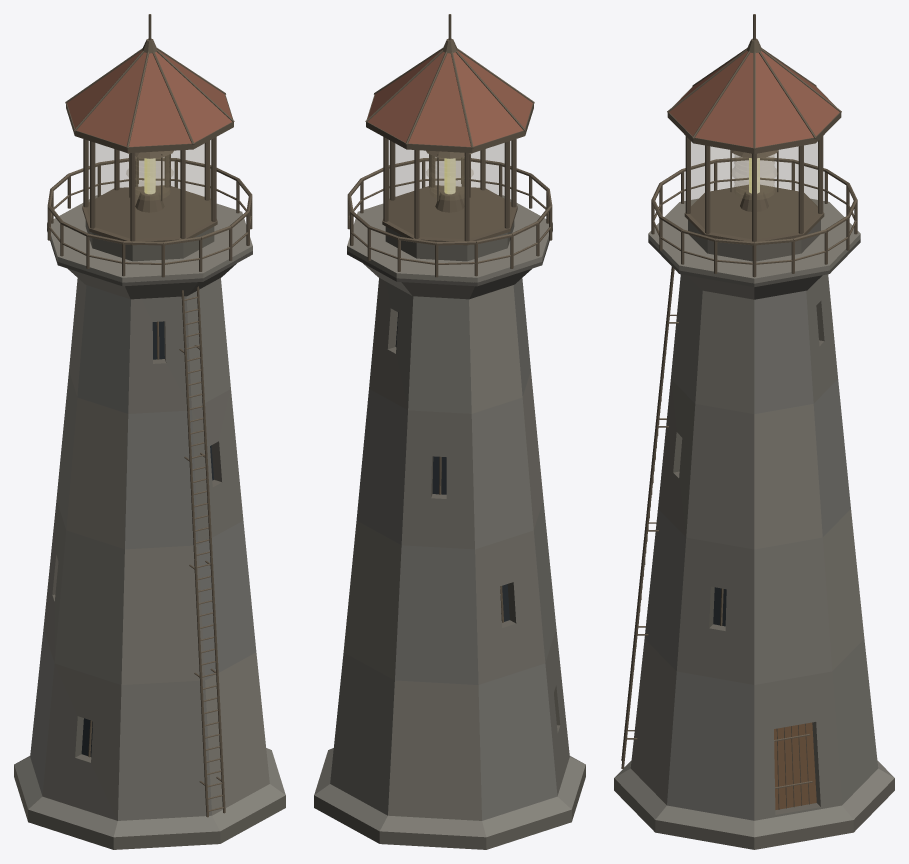
File: lighthouse.glb
3 renders of one model, left to right at view 1: azimuth 30°, elevation 25°; view 2: azimuth 150°, elevation 25°; view 3: azimuth 270°, elevation 25°, orthographic.
Parts seen in each view (by area): view 1: Shaft course 0 facet 5, Shaft course 1 facet 5, Eight pitched roof planes, Stone opening course 0 facet 4, Shaft course 2 facet 5, Shaft course 1 facet 4, Shaft course 2 facet 4, Shaft course 0 facet 6, Shaft course 1 facet 6, Stone opening course 3 facet 5, Gallery stone floor, Bevelled plinth (+21 smaller); view 2: Shaft course 0 facet 2, Shaft course 1 facet 2, Eight pitched roof planes, Shaft course 0 facet 3, Stone opening course 2 facet 2, Stone opening course 1 facet 3, Shaft course 0 facet 1, Shaft course 2 facet 3, Shaft course 3 facet 2, Shaft course 1 facet 1, Gallery stone floor, Shaft course 2 facet 1 (+19 smaller); view 3: Shaft course 0 facet 7, Shaft course 1 facet 0, Eight pitched roof planes, Stone opening course 1 facet 7, Shaft course 2 facet 0, Shaft course 2 facet 7, Stone opening course 0 facet 0, Shaft course 3 facet 0, Shaft course 3 facet 7, Gallery stone floor, Bevelled plinth, Shaft course 0 facet 1 (+21 smaller).
Boxes of the visible parts, left/top/right/bottom form: Shaft course 0 facet 5: left=118, top=680, right=211, bottom=820; Shaft course 1 facet 5: left=121, top=545, right=204, bottom=684; Eight pitched roof planes: left=67, top=50, right=232, bottom=146; Stone opening course 0 facet 4: left=42, top=663, right=121, bottom=820; Shaft course 2 facet 5: left=125, top=410, right=198, bottom=549; Shaft course 1 facet 4: left=54, top=530, right=124, bottom=684; Shaft course 2 facet 4: left=66, top=397, right=128, bottom=549; Shaft course 0 facet 6: left=205, top=652, right=269, bottom=815; Shaft course 1 facet 6: left=198, top=521, right=256, bottom=680; Stone opening course 3 facet 5: left=128, top=296, right=191, bottom=413; Gallery stone floor: left=47, top=195, right=252, bottom=282; Bevelled plinth: left=14, top=748, right=285, bottom=837; Shaft course 0 facet 2: left=388, top=680, right=481, bottom=820; Shaft course 1 facet 2: left=395, top=545, right=478, bottom=684; Eight pitched roof planes: left=367, top=50, right=532, bottom=146; Shaft course 0 facet 3: left=478, top=663, right=557, bottom=820; Stone opening course 2 facet 2: left=401, top=410, right=474, bottom=549; Stone opening course 1 facet 3: left=475, top=530, right=545, bottom=684; Shaft course 0 facet 1: left=330, top=652, right=394, bottom=815; Shaft course 2 facet 3: left=471, top=397, right=533, bottom=549; Shaft course 3 facet 2: left=408, top=296, right=471, bottom=413; Shaft course 1 facet 1: left=343, top=521, right=401, bottom=680; Gallery stone floor: left=347, top=195, right=552, bottom=282; Shaft course 2 facet 1: left=356, top=389, right=407, bottom=544; Shaft course 0 facet 7: left=667, top=671, right=754, bottom=820; Shaft course 1 facet 0: left=754, top=537, right=831, bottom=684; Eight pitched roof planes: left=669, top=51, right=839, bottom=147; Stone opening course 1 facet 7: left=677, top=537, right=754, bottom=684; Shaft course 2 facet 0: left=754, top=404, right=822, bottom=549; Shaft course 2 facet 7: left=686, top=404, right=754, bottom=549; Stone opening course 0 facet 0: left=754, top=671, right=841, bottom=820; Shaft course 3 facet 0: left=754, top=290, right=813, bottom=413; Shaft course 3 facet 7: left=695, top=290, right=754, bottom=413; Gallery stone floor: left=648, top=198, right=860, bottom=283; Bevelled plinth: left=614, top=760, right=894, bottom=837; Shaft course 0 facet 1: left=832, top=639, right=878, bottom=804.
Size of the model in its own units: 8.03 by 24.5 by 8.03.
